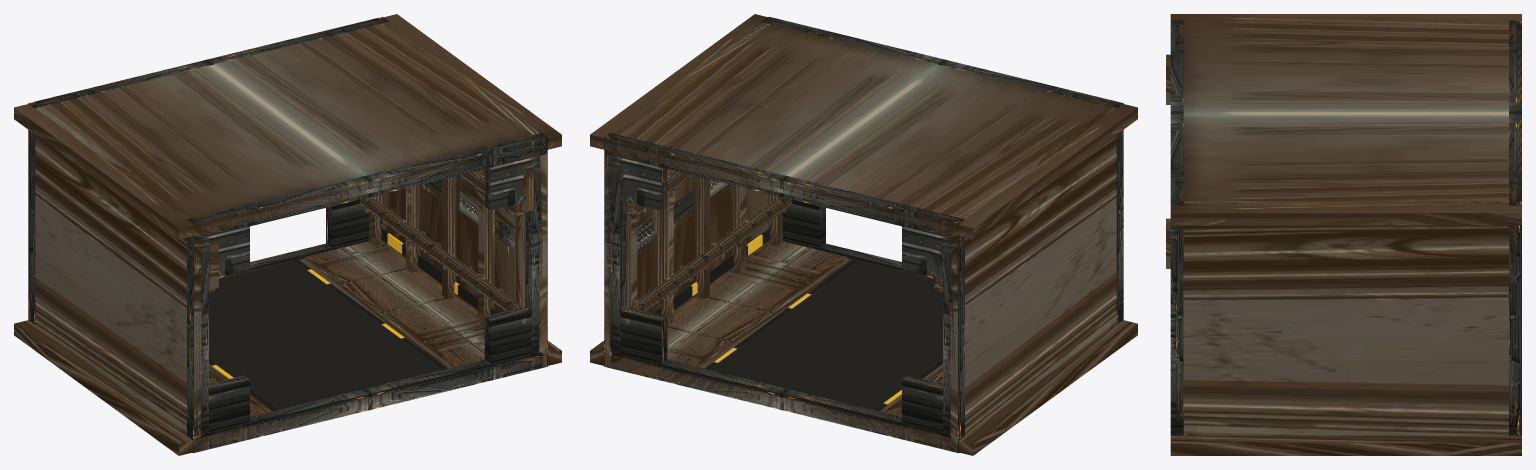
Rendered from hangar_koridor_ankora.glb.
3 views of the same model, side by side, from view 1: azimuth 30°, elevation 25°; view 2: azimuth 150°, elevation 25°; view 3: azimuth 270°, elevation 25° (orthographic). The views are drawn at different scales.
Visible parts, largest first — view 1: LOD0_koridor; view 2: LOD0_koridor; view 3: LOD0_koridor.
Part boxes in pixels (x1,y1,x2,y2): LOD0_koridor: (14,14,561,455); LOD0_koridor: (590,14,1137,455); LOD0_koridor: (1166,14,1521,455).
Size of the model in its own units: 10.2 by 5.84 by 7.7.
Materials: 1 (1 with a texture image).
